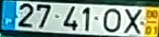1: (80, 6, 91, 33)
2: (17, 2, 35, 28)
4: (61, 5, 79, 31)
7: (35, 2, 51, 28)
O: (102, 7, 122, 33)
X: (122, 7, 142, 34)
